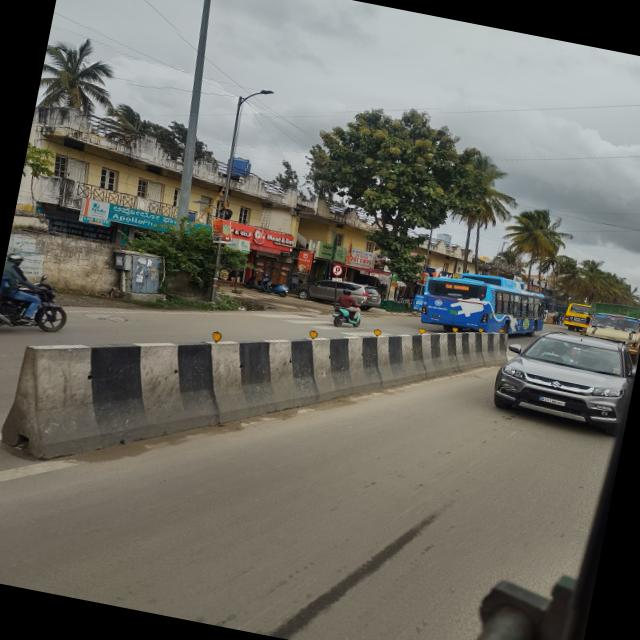bus: (413, 260, 554, 344)
display: (444, 283, 472, 293)
dnumber: (446, 283, 453, 289)
